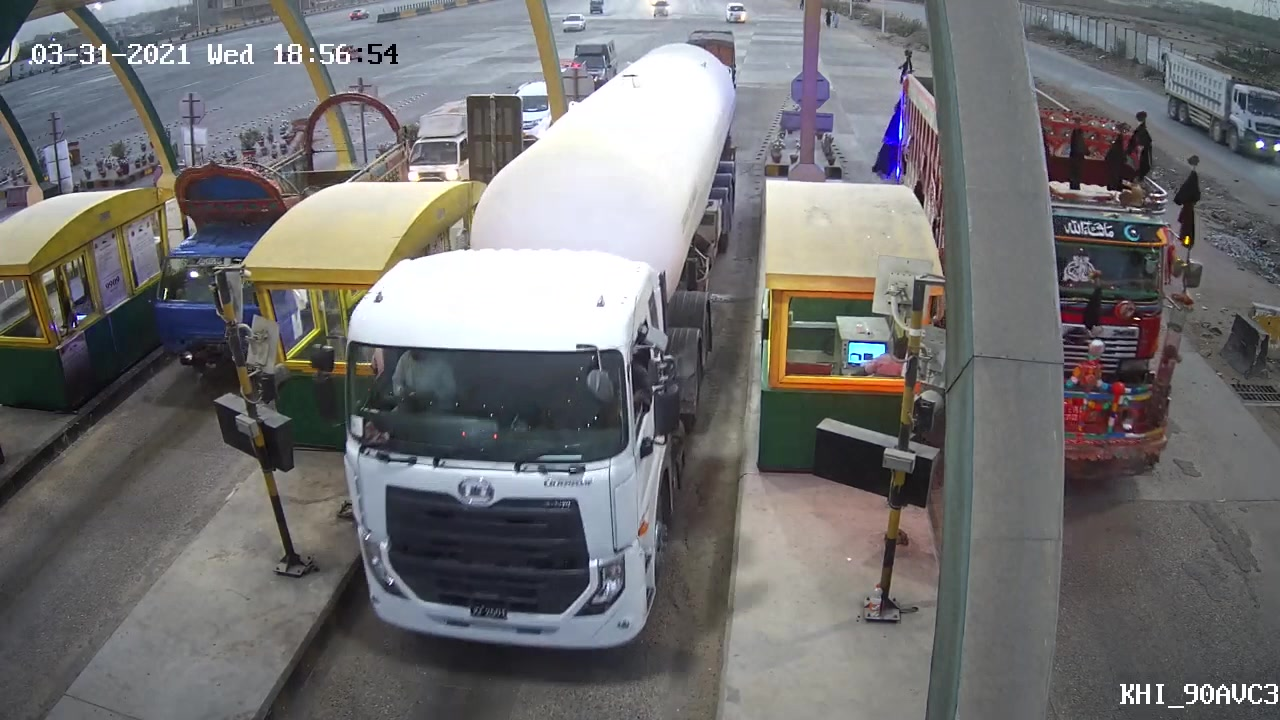F6: (310, 274, 682, 656)
